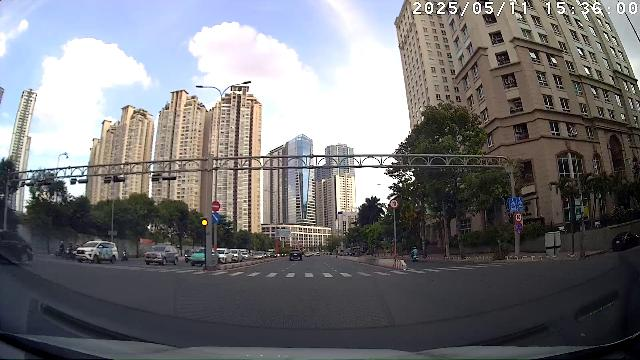127-toc-do-toi-da-60: (515, 212, 523, 222)
127-toc-do-toi-da-70: (389, 199, 399, 208)
130-cam-dung-va-do-xe: (515, 223, 523, 233)
